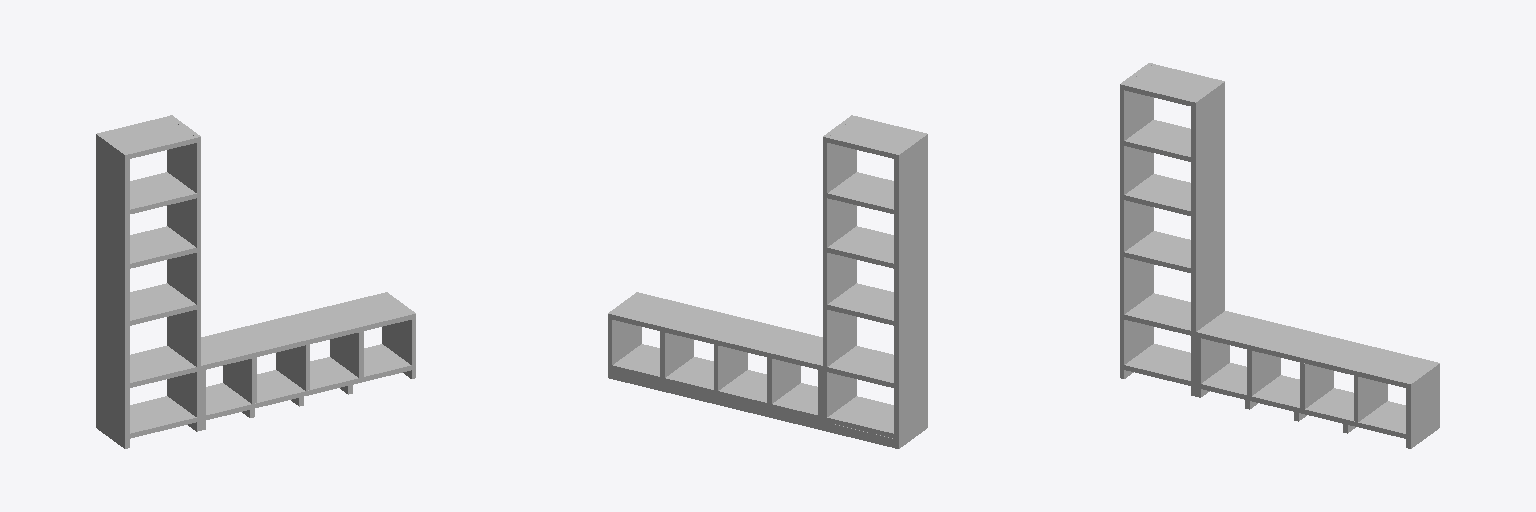
File: Shelves.obj
3 views of the same model, side by side, from view 1: azimuth 30°, elevation 25°; view 2: azimuth 150°, elevation 25°; view 3: azimuth 330°, elevation 25° (orthographic).
Visible parts, largest first — view 1: 36mm Triboard (2), 36mm Triboard, 36mm triboard, 36mm triboard (7), 36mm triboard (13), 36mm triboard (16), 36mm triboard (15), 36mm triboard (14), 36mm triboard (12), 36mm triboard (17), 36mm triboard (2), 36mm triboard (3) (+2 smaller); view 2: 36mm Triboard (2), 36mm Triboard, 36mm triboard, 36mm triboard (7), 36mm triboard (13), 21mm triboard, 36mm triboard (14), 36mm triboard (12), 36mm triboard (16), 36mm triboard (15), 36mm triboard (17), 36mm triboard (2) (+4 smaller); view 3: 36mm Triboard, 36mm triboard, 36mm Triboard (2), 36mm triboard (7), 36mm triboard (13), 36mm triboard (2), 36mm triboard (15), 36mm triboard (16), 36mm triboard (14), 36mm triboard (12), 36mm triboard (17), 36mm triboard (6) (+3 smaller).
Part boxes in pixels (left/top/right/bottom): 36mm Triboard (2): left=96, top=133, right=129, bottom=448; 36mm Triboard: left=167, top=115, right=200, bottom=431; 36mm triboard: left=201, top=292, right=415, bottom=370; 36mm triboard (7): left=206, top=344, right=411, bottom=419; 36mm triboard (13): left=101, top=116, right=196, bottom=158; 36mm triboard (16): left=130, top=226, right=196, bottom=268; 36mm triboard (15): left=130, top=283, right=196, bottom=325; 36mm triboard (14): left=130, top=346, right=196, bottom=387; 36mm triboard (12): left=130, top=396, right=196, bottom=438; 36mm triboard (17): left=130, top=172, right=196, bottom=213; 36mm triboard (2): left=382, top=319, right=415, bottom=378; 36mm triboard (3): left=330, top=331, right=363, bottom=377; 36mm Triboard (2): left=894, top=133, right=927, bottom=448; 36mm Triboard: left=823, top=115, right=856, bottom=431; 36mm triboard: left=608, top=292, right=822, bottom=370; 36mm triboard (7): left=612, top=344, right=817, bottom=419; 36mm triboard (13): left=827, top=116, right=922, bottom=158; 21mm triboard: left=612, top=370, right=817, bottom=428; 36mm triboard (14): left=827, top=346, right=893, bottom=387; 36mm triboard (12): left=827, top=396, right=893, bottom=438; 36mm triboard (16): left=827, top=226, right=893, bottom=268; 36mm triboard (15): left=827, top=283, right=893, bottom=325; 36mm triboard (17): left=827, top=172, right=893, bottom=213; 36mm triboard (2): left=608, top=319, right=641, bottom=378; 36mm Triboard: left=1191, top=80, right=1224, bottom=396; 36mm triboard: left=1196, top=311, right=1439, bottom=388; 36mm Triboard (2): left=1120, top=63, right=1153, bottom=378; 36mm triboard (7): left=1201, top=363, right=1405, bottom=438; 36mm triboard (13): left=1124, top=64, right=1219, bottom=105; 36mm triboard (2): left=1406, top=369, right=1439, bottom=448; 36mm triboard (15): left=1124, top=231, right=1190, bottom=272; 36mm triboard (16): left=1124, top=174, right=1190, bottom=215; 36mm triboard (14): left=1124, top=293, right=1190, bottom=335; 36mm triboard (12): left=1124, top=344, right=1190, bottom=385; 36mm triboard (17): left=1124, top=120, right=1190, bottom=161; 36mm triboard (6): left=1196, top=337, right=1229, bottom=397.
Bounding box in the file's own units: 2.29 × 2.21 × 0.4012.